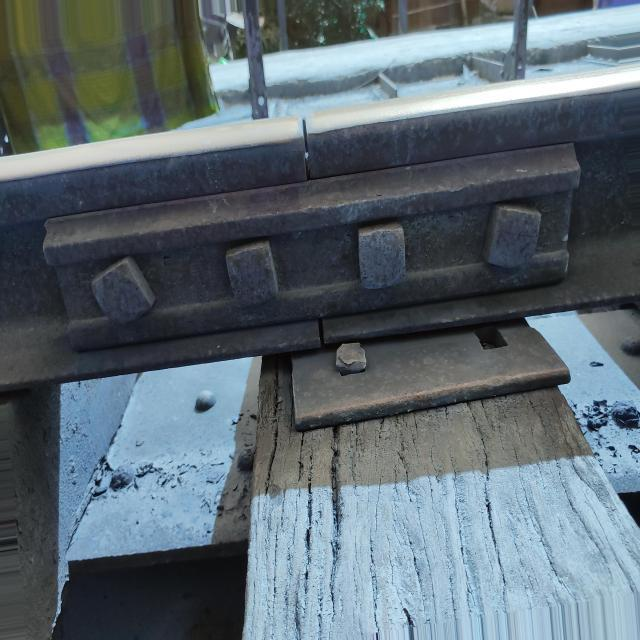Good Joint: (44, 98, 629, 352)
Missing Dogscrew: (475, 326, 508, 349)
